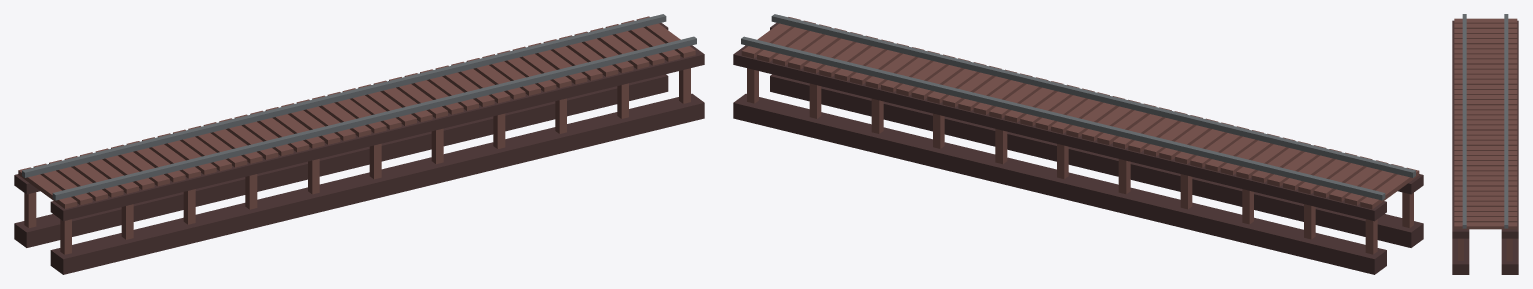
The model's file is DarkRoseWoodMechLarge1_5GaugeStraight1.fbx.
3 renders of one model, left to right at view 1: azimuth 30°, elevation 25°; view 2: azimuth 150°, elevation 25°; view 3: azimuth 270°, elevation 25°, orthographic. The views are drawn at different scales.
Parts seen in each view (by area): view 1: DarkRoseWoodMechLarge1_5GaugeStraight1; view 2: DarkRoseWoodMechLarge1_5GaugeStraight1; view 3: DarkRoseWoodMechLarge1_5GaugeStraight1.
Boxes of the visible parts, bbox=[...] form: DarkRoseWoodMechLarge1_5GaugeStraight1: bbox=[14, 14, 704, 274]; DarkRoseWoodMechLarge1_5GaugeStraight1: bbox=[733, 14, 1423, 274]; DarkRoseWoodMechLarge1_5GaugeStraight1: bbox=[1452, 14, 1518, 274].
Bounding box in the file's own units: 2000 × 221 × 265.
